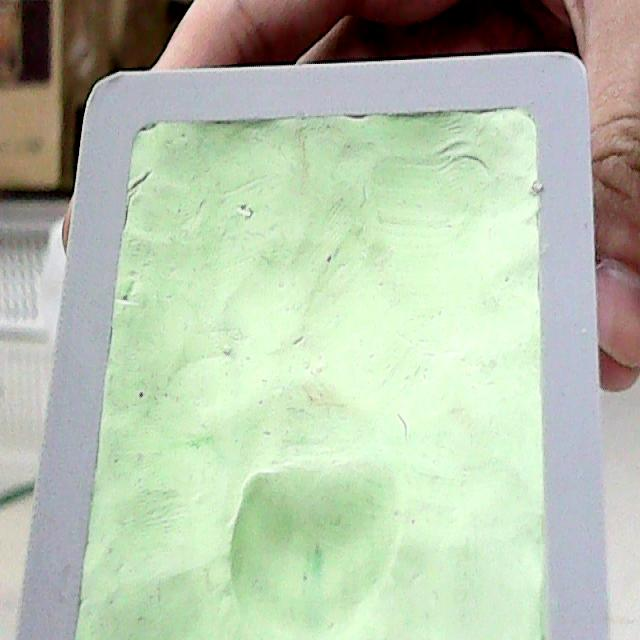block: (8, 54, 614, 637)
